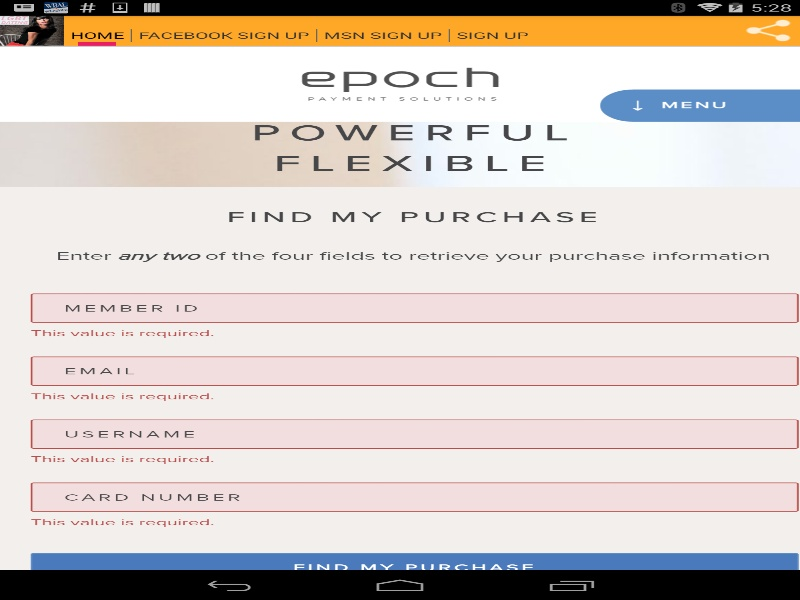Button: (30, 553, 798, 583)
Input: (30, 293, 798, 322), (30, 356, 798, 385), (30, 419, 798, 448), (30, 482, 798, 511)
